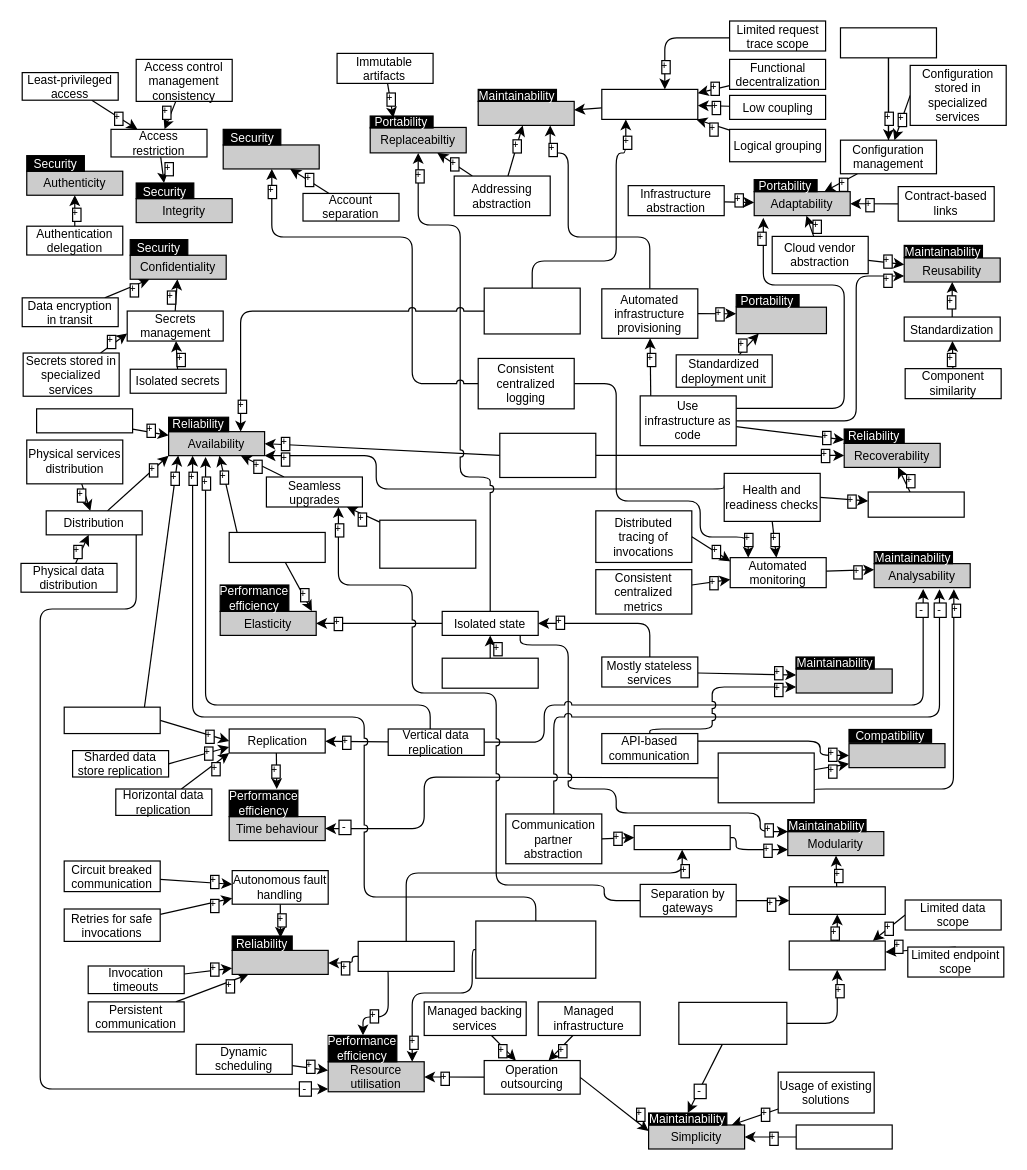
The diagram is 1027 pixels wide and 1170 high, and some of its shapes have lost their labels. Here are the shapes that lost their labels. From the top down, the centre of each, then its label:
At point 887,42: "Isolated configuration".
At point 525,112: "Modifiability".
At point 649,103: "Service independence".
At point 270,156: "Accountability".
At point 531,310: "Backing service decentralization".
At point 780,320: "Installability".
At point 84,420: "Guarded ingress".
At point 547,454: "Automated infrastructure maintenance".
At point 915,504: "Automated restarts".
At point 276,546: "Built-in autoscaling".
At point 427,543: "Rolling upgrades enabled".
At point 489,672: "Spezialized stateful services".
At point 843,680: "Testability".
At point 111,720: "Service replication".
At point 896,755: "Interoperability".
At point 765,777: "Consistently mediated communication".
At point 681,837: "Loose coupling".
At point 836,900: "Service-orientation".
At point 279,961: "Fault tolerance".
At point 405,955: "Asynchronous communication".
At point 535,949: "Enforcement of appropriate resource boundaries".
At point 836,955: "Limited functional scope".
At point 732,1022: "Command Query Responsibility Segregation".
At point 843,1136: "Sparsity".
